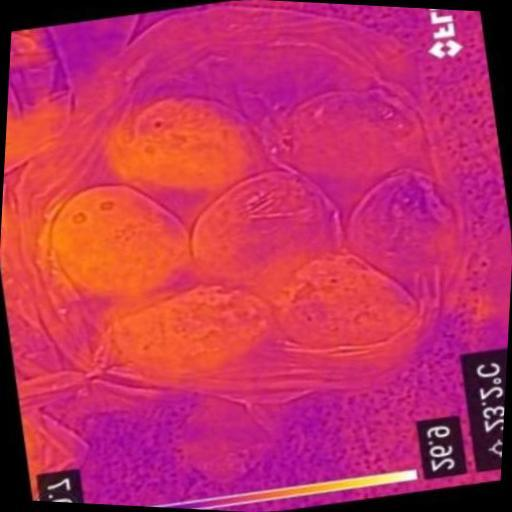alphanso: (271, 89, 422, 210), (192, 170, 340, 290), (105, 286, 272, 383), (50, 185, 187, 299), (110, 105, 264, 189), (288, 256, 413, 350), (347, 169, 455, 274)
